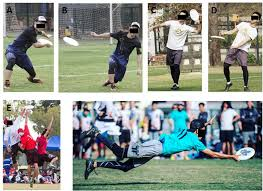disc: (235, 146, 257, 162), (62, 35, 80, 47), (188, 9, 200, 25), (37, 36, 54, 47), (210, 34, 224, 40), (21, 106, 35, 111)
